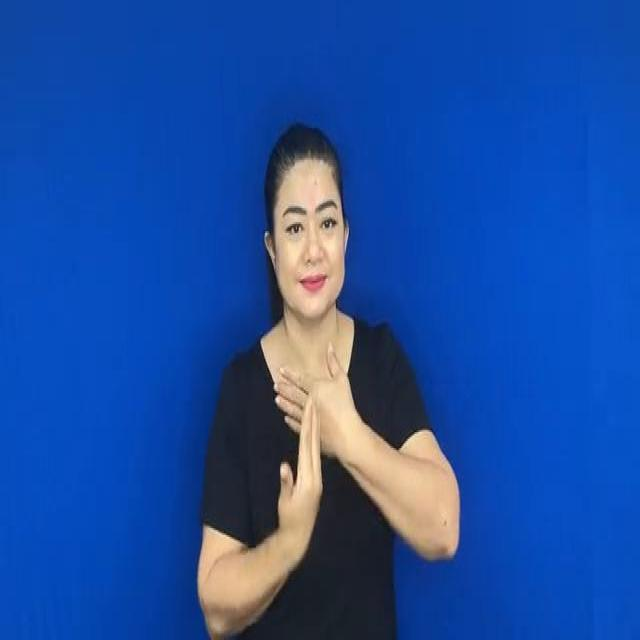bread: (264, 338, 362, 582)
